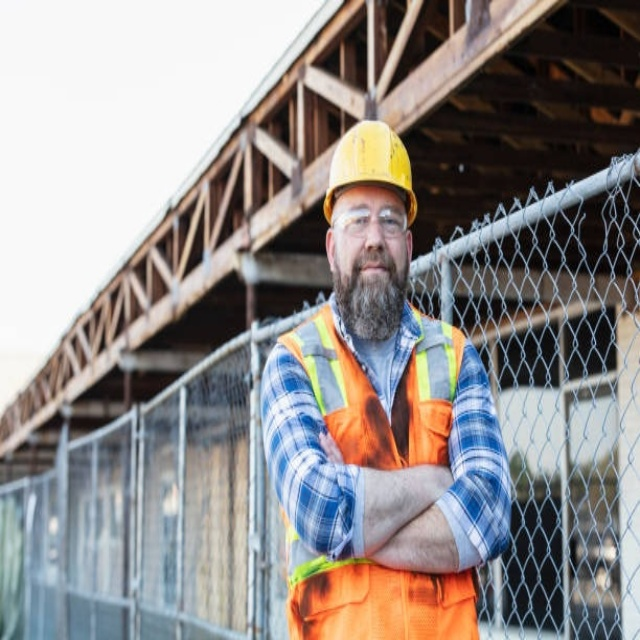Gafas: (333, 205, 410, 237)
Sin_mascara: (353, 251, 395, 292)
